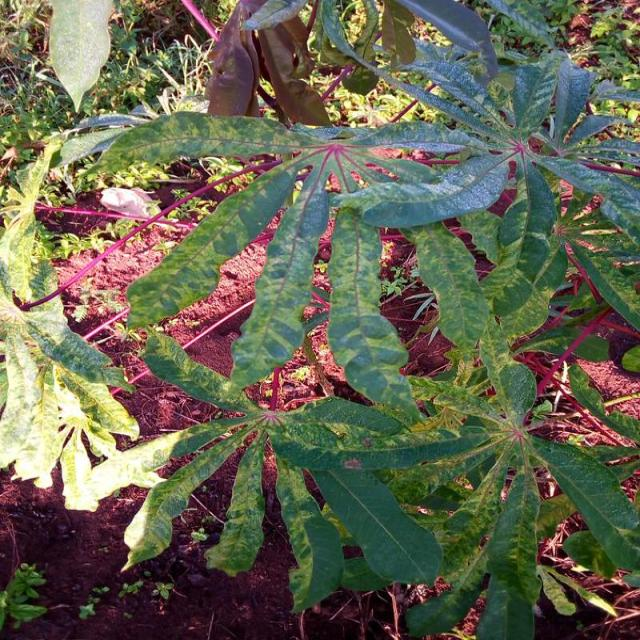cassava leaf: (2, 1, 638, 635)
